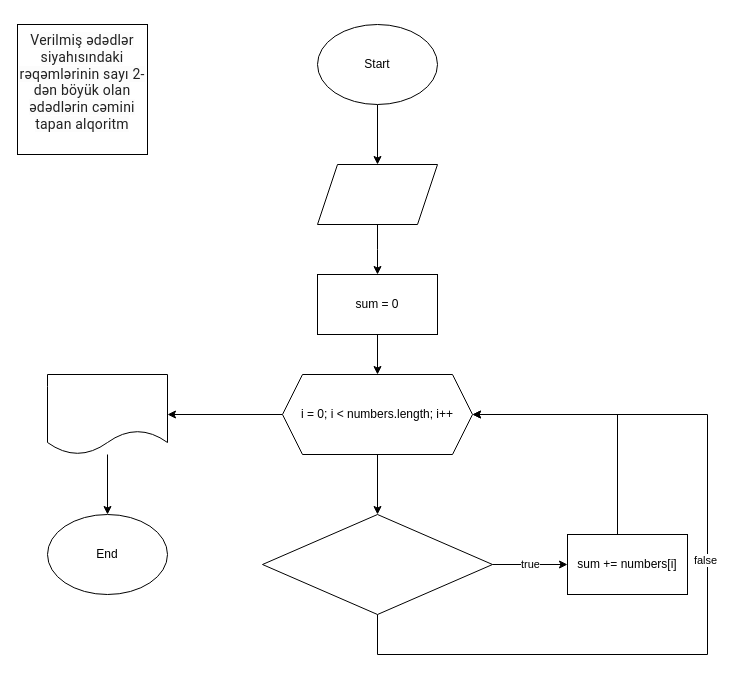
This 734x680 diagram has some shape labels left out. The centre of each missing label's shape, as x and y in pixels:
"numbers" belongs at pixel 377 194.
"numbers[i] >= 100 || numbers[i] <= -100" belongs at pixel 377 564.
"sum" belongs at pixel 107 414.
